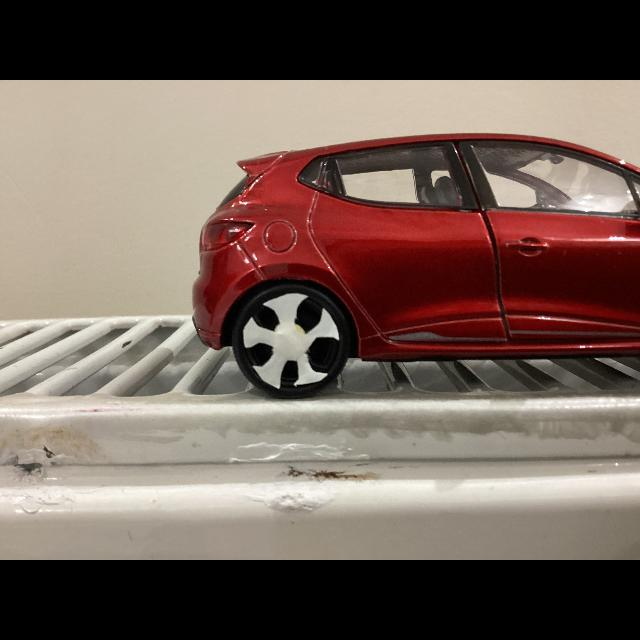Yanlis_Jant: (242, 291, 341, 389)
